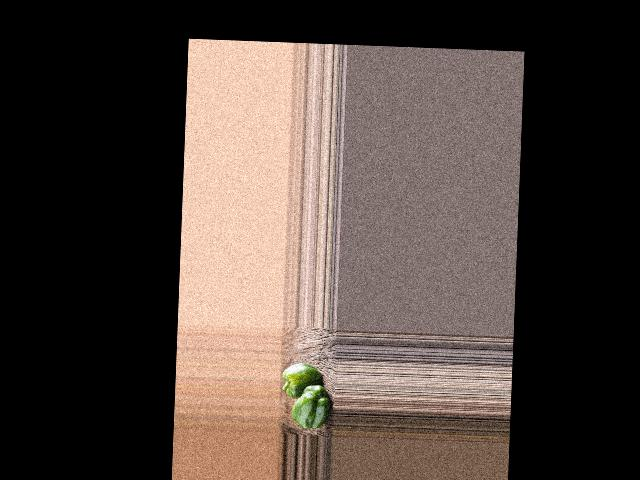bell_pepper: (290, 382, 329, 429)
